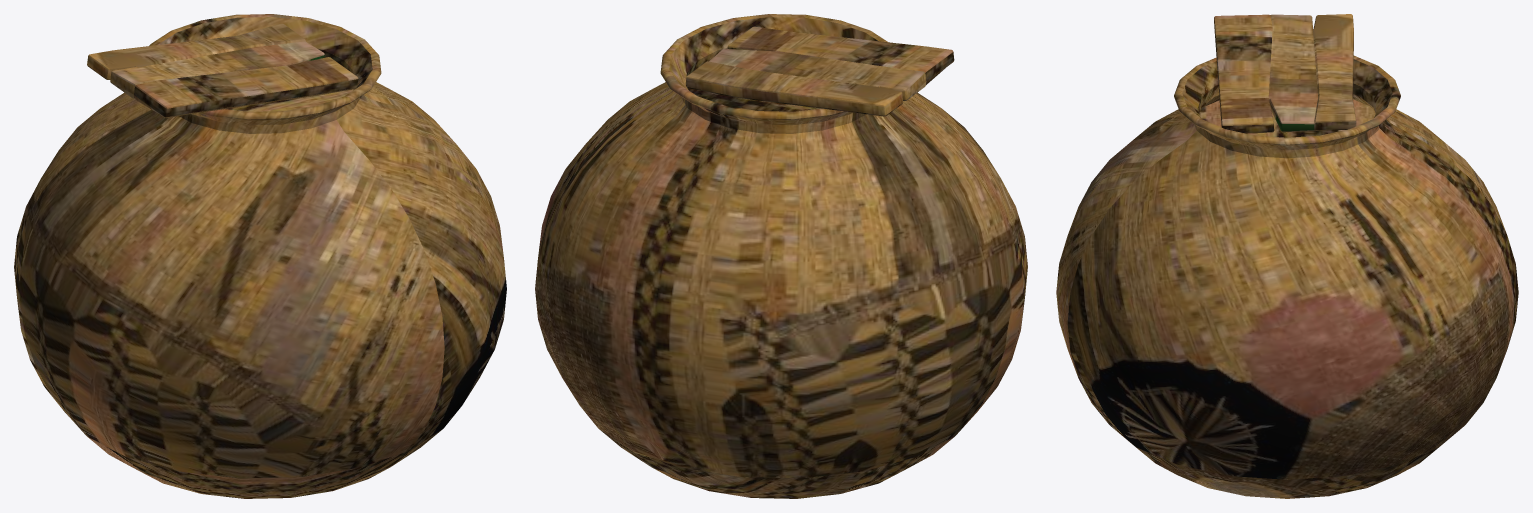
Rendered from xi_oam_vaseround.gltf.
3 views of the same model, side by side, from view 1: azimuth 30°, elevation 25°; view 2: azimuth 150°, elevation 25°; view 3: azimuth 270°, elevation 25° (orthographic). The views are drawn at different scales.
Parts seen in each view (by area): view 1: xi_oam_vaseround; view 2: xi_oam_vaseround; view 3: xi_oam_vaseround.
Part boxes in pixels (x1,y1,x2,y2): xi_oam_vaseround: (14, 14, 506, 498); xi_oam_vaseround: (535, 14, 1027, 498); xi_oam_vaseround: (1056, 14, 1518, 498).
Size of the model in its own units: 0.6225 by 0.5718 by 0.6225.
1 material, 1 textured.
